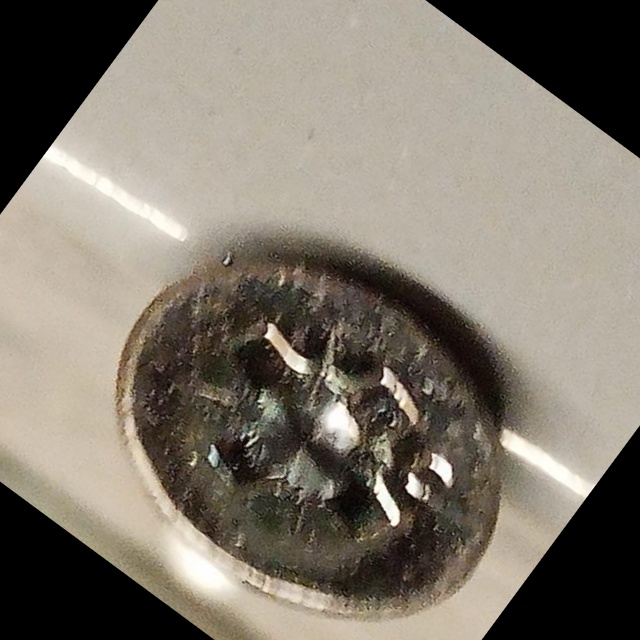pozidriv: (43, 179, 581, 640)
